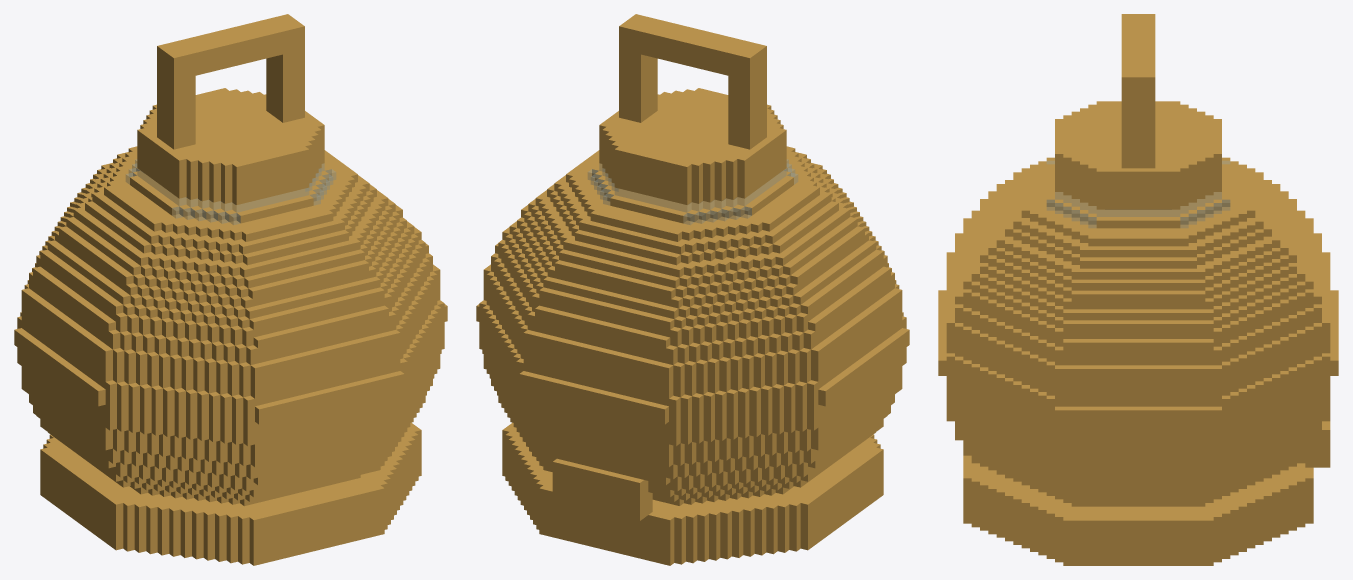
File: glow_light_covered.glb
3 renders of one model, left to right at view 1: azimuth 30°, elevation 25°; view 2: azimuth 150°, elevation 25°; view 3: azimuth 270°, elevation 25°, orthographic.
Parts seen in each view (by area): view 1: glow_light_covered:compound; view 2: glow_light_covered:compound; view 3: glow_light_covered:compound.
Part boxes in pixels (bbox=[...]): glow_light_covered:compound: bbox=[14, 14, 447, 565]; glow_light_covered:compound: bbox=[476, 14, 909, 565]; glow_light_covered:compound: bbox=[938, 14, 1338, 565].
Size of the model in its own units: 0.096 by 0.118 by 0.096.
